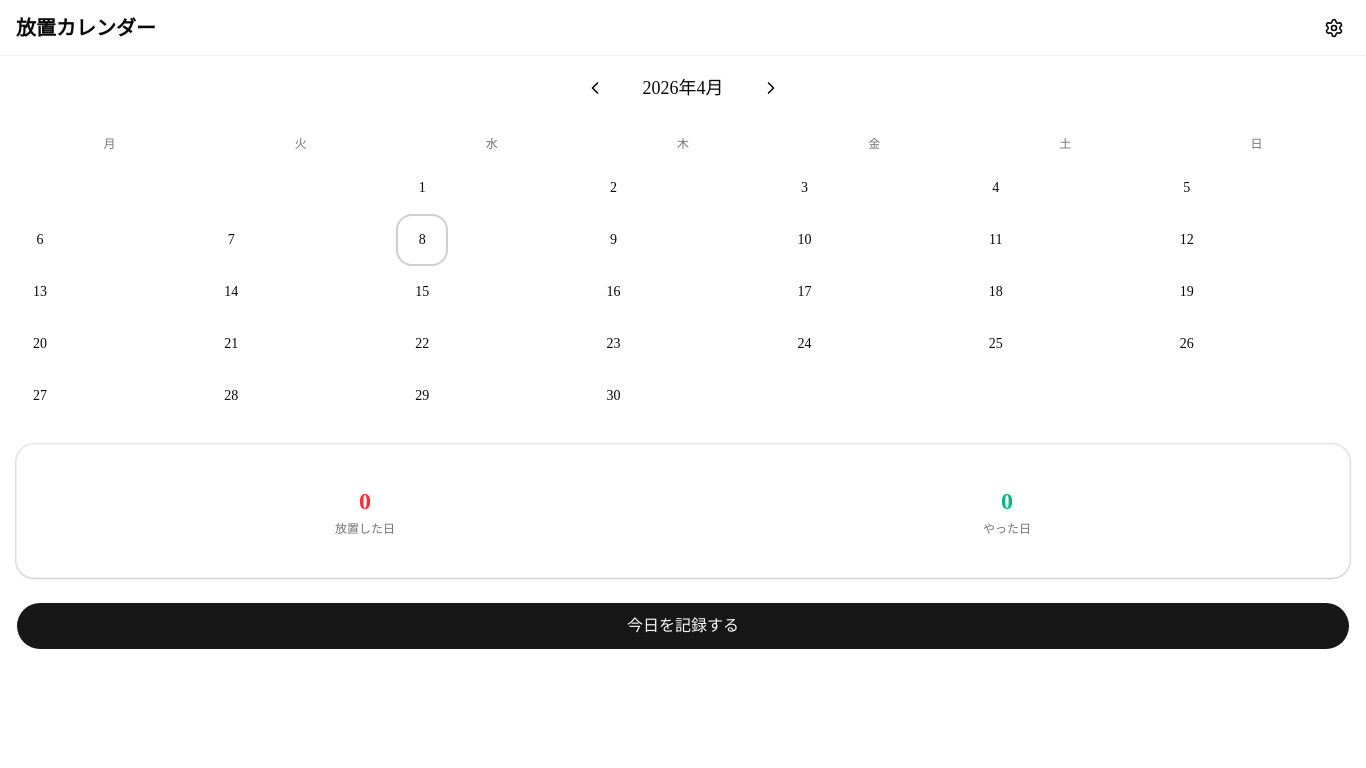
CalendarView 月ナビゲーション › 別の月に移動すると「今日を記録する」ボタンが非表示
Expected: the button "今日を記録する" is shown, [16,602,1350,650]
Click the button named "前の月".
click(595, 88)  # box [579,72,611,104]
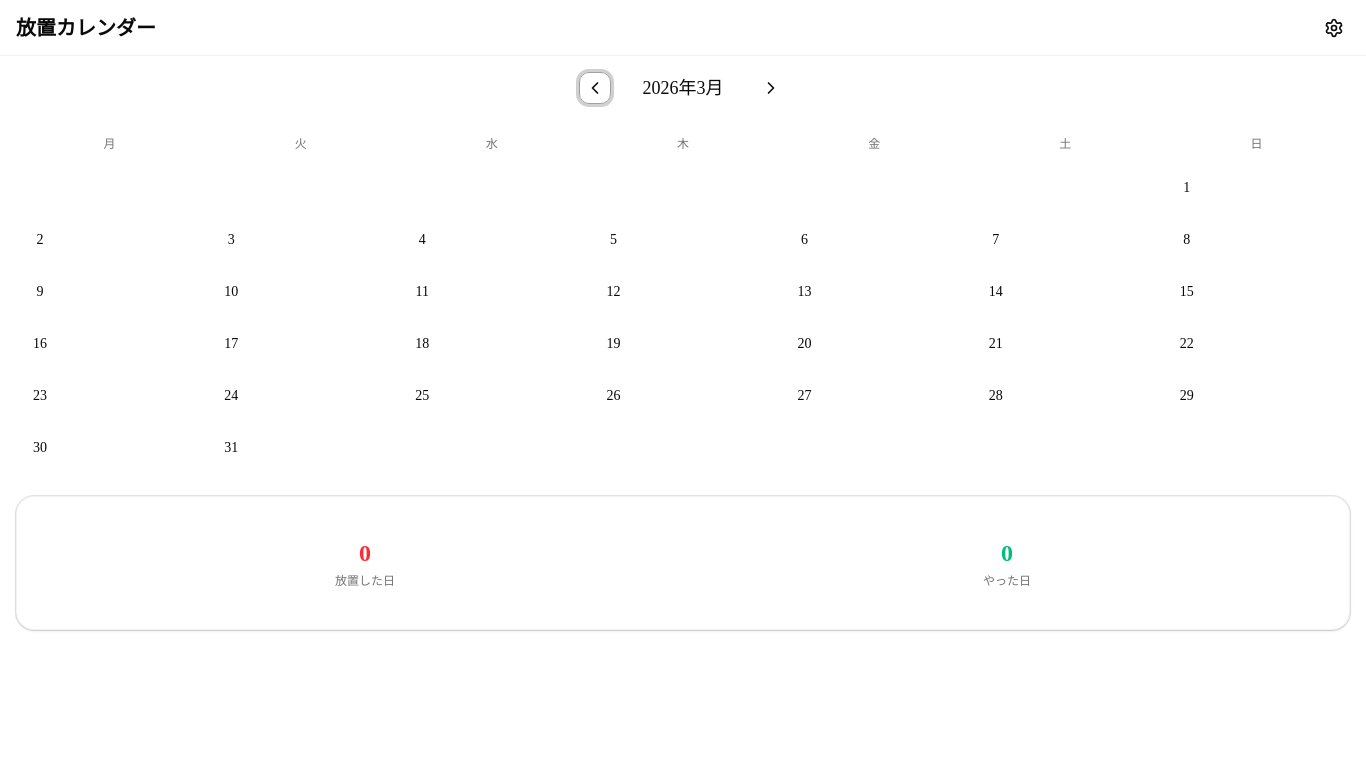
Result: the button "今日を記録する" is gone
